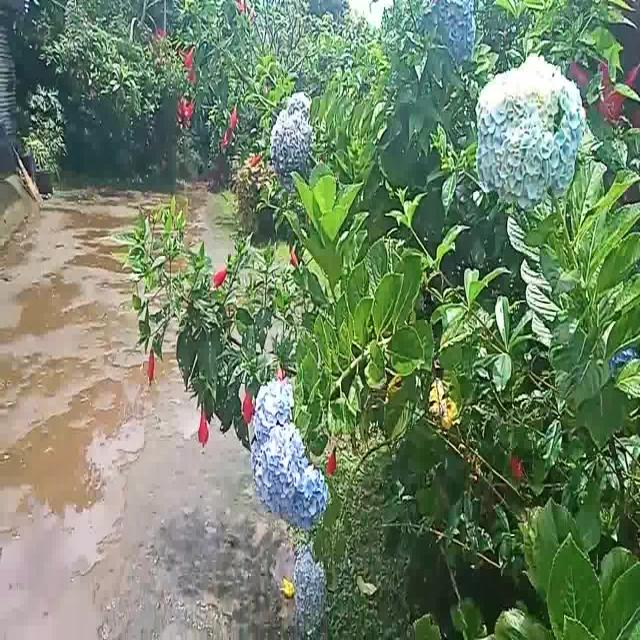Flower: (475, 52, 587, 220), (249, 373, 331, 535), (268, 86, 313, 182), (291, 543, 331, 635), (196, 397, 212, 451), (212, 260, 233, 296), (326, 444, 341, 481), (147, 343, 158, 392)
